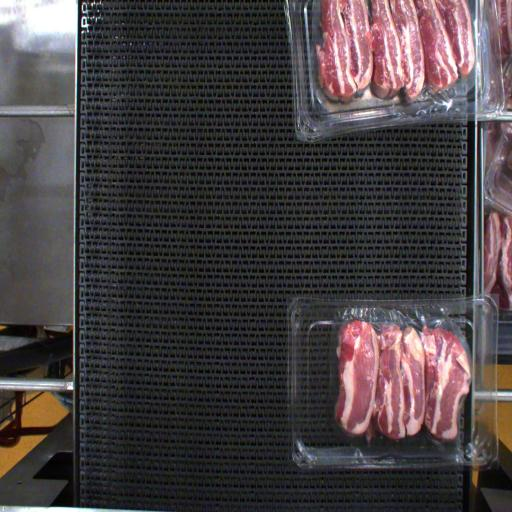unsealed: (325, 308, 473, 367)
